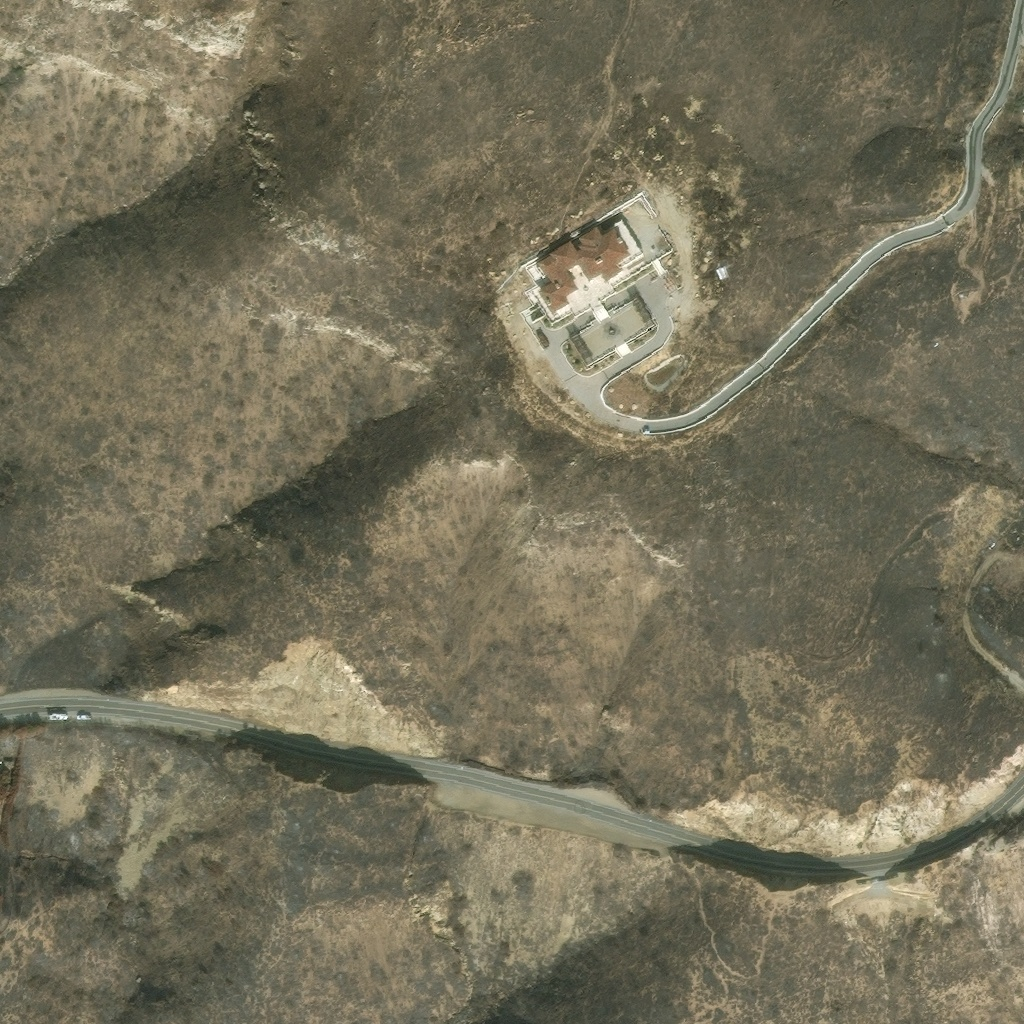0 no-damage: (536, 219, 643, 323)
